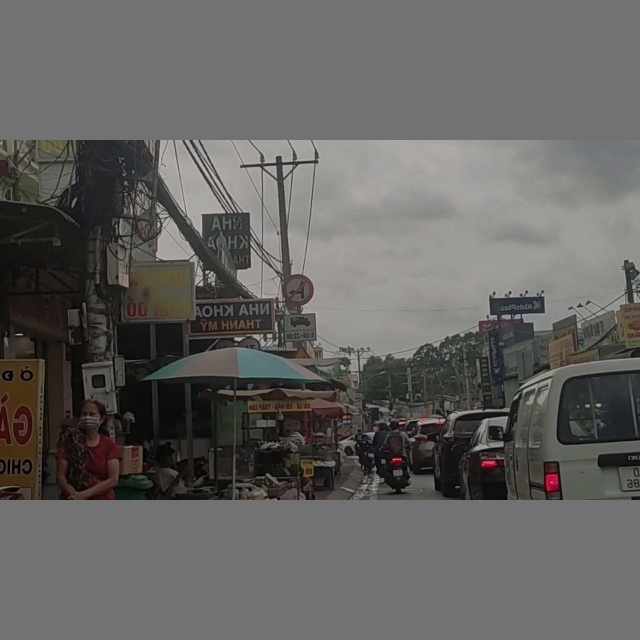P.139: (283, 273, 315, 303)
S.505a*Xe tai: (283, 313, 316, 340)
